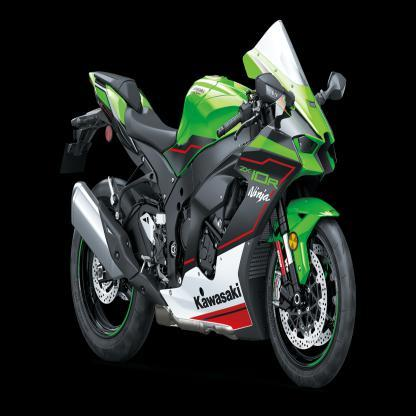Motorcycle: (62, 20, 357, 395)
